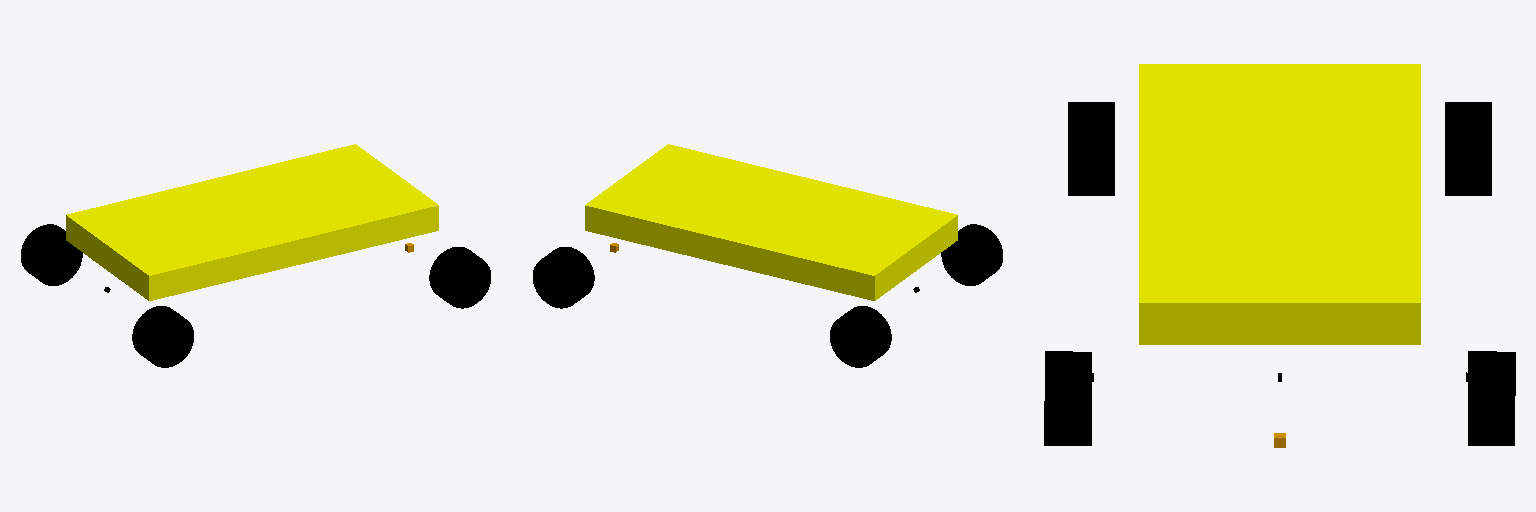
URDF robot description (car_model):
<?xml version="1.0"?>
<robot name="car_model">

  <gazebo>
    <static>False</static>
  </gazebo>

  <material name="grey">
    <color rgba="0.2 0.2 0.2 0.7"/>
  </material>

  <material name="black">
    <color rgba="0 0 0 0.7"/>
  </material>

  <material name="yellow">
    <color rgba="1 1 0 0.7"/>
  </material>



  <link name="base_footprint">

    <inertial>
      <origin xyz="0 0 0"/>
      <mass value="1.0"/>
      <inertia ixx="1" ixy="0.0" ixz="0.0" iyy="1" iyz="0.0" izz="1"/>
    </inertial>

    <visual>
      <geometry>
        <box size="0.001 0.001 0.001"/>
      </geometry>
      <origin xyz="0 0 0" rpy="0 0 0"/>
    </visual>


  </link>

  <joint name="joint1" type="fixed">
    <parent link="base_footprint"/>
    <child link="base_link"/>
    <origin xyz="0 0 0.5" rpy="0 0 0"/>
  </joint>

  <link name="base_link">

    <inertial>
      <origin xyz="1.2 0 0"/>
      <mass value="212"/>
      <inertia ixx="1.4133" ixy="0.0" ixz="0.0" iyy="159.7" iyz="0.0" izz="159.7"/>
    </inertial>

    <visual>
      <geometry>
        <box size="2.4 1.2 0.2"/>
      </geometry>
      <origin rpy="0 0 0" xyz="1.2 0 0"/>
      <material name="yellow"/>
    </visual>

    <collision>
      <geometry>
        <box size="2.4 1.2 0.2"/>
      </geometry>
      <origin rpy="0 0 0" xyz="0 0 0"/>
    </collision>

  </link>

  <gazebo reference="base_link">
    <material>Gazebo/Yellow</material>
  </gazebo>

  <joint name="right_rear_wheel_joint" type="continuous">
    <parent link="base_link"/>
    <child link="right_rear_wheel"/>
    <origin xyz="0 0.8 -0.3" rpy="0 0 0"/>
    <axis xyz="0 1 0"/>
  </joint>


  <link name="right_rear_wheel">

    <inertial>
      <origin xyz="0 0 0"/>
      <mass value="3.0"/>
      <inertia ixx="0.0525" ixy="0.0" ixz="0.0" iyy="0.0525" iyz="0.0" izz="0.06"/>
    </inertial>

    <visual>
      <geometry>
        <cylinder radius="0.2" length="0.2"/>
      </geometry>
      <origin xyz="0 0 0" rpy="1.57 0 0"/>
      <material name="black"/>
    </visual>

    <collision>
      <geometry>
        <cylinder radius="0.2" length="0.2"/>
      </geometry>
      <origin xyz="0 0 0" rpy="1.57 0 0"/>
    </collision>
  </link>


  <joint name="left_rear_wheel_joint" type="continuous">
    <parent link="base_link"/>
    <child link="left_rear_wheel"/>
    <origin xyz="0 -0.8 -0.3" rpy="0 0 0"/>
    <axis xyz="0 1 0"/>
  </joint>


  <link name="left_rear_wheel">

    <inertial>
      <origin xyz="0 0 0"/>
      <mass value="3.0"/>
      <inertia ixx="0.0525" ixy="0.0" ixz="0.0" iyy="0.0525" iyz="0.0" izz="0.06"/>
    </inertial>

    <visual>
      <geometry>
        <cylinder radius="0.2" length="0.2"/>
      </geometry>
      <origin xyz="0 0 0" rpy="1.57 0 0"/>
      <material name="black"/>
    </visual>

    <collision>
      <geometry>
        <cylinder radius="0.2" length="0.2"/>
      </geometry>
      <origin xyz="0 0 0" rpy="1.57 0 0"/>
    </collision>
  </link>




  <transmission name="right_rear_wheel_trans">
    <type>transmission_interface/SimpleTransmission</type>
    <joint name="right_rear_wheel_joint">
      <hardwareInterface>hardware_interface/VelocityJointInterface</hardwareInterface>

    </joint>
    <actuator name="rear_wheel_motor">
      <mechanicalReduction>50</mechanicalReduction>
      <hardwareInterface>hardware_interface/VelocityJointInterface</hardwareInterface>
      <mechanicalReduction>1</mechanicalReduction>
    </actuator>
  </transmission>

  <transmission name="left_rear_wheel_trans">
    <type>transmission_interface/SimpleTransmission</type>
    <joint name="left_rear_wheel_joint">
      <hardwareInterface>hardware_interface/VelocityJointInterface</hardwareInterface>

    </joint>
    <actuator name="rear_wheel_motor">
      <mechanicalReduction>50</mechanicalReduction>
      <hardwareInterface>hardware_interface/VelocityJointInterface</hardwareInterface>
      <mechanicalReduction>1</mechanicalReduction>
    </actuator>
  </transmission>

  <gazebo reference="rear_wheel">
    <mu1 value="0.2"/>
    <mu2 value="0.2"/>
    <kp  value="10000000.0" />
    <kd  value="1.0" />
    <fdir1 value="1 0 0"/>
    <material>Gazebo/Black</material>
  </gazebo>


  <joint name="right_steer_joint" type="revolute">
    <parent link="base_link"/>
    <child link="right_steer"/>
    <origin xyz="2.4 0.8 -0.25" rpy="0 0 0"/>
    <limit effort="10" velocity="3" upper="0.69" lower="-0.5"/>
    <axis xyz="0 0 1"/>
  </joint>

<link name="right_steer">

    <inertial>
      <origin xyz="0 0 0"/>
      <mass value="1.0"/>
      <inertia ixx="0.0525" ixy="0.0" ixz="0.0" iyy="0.0525" iyz="0.0" izz="0.06"/>
    </inertial>

    <visual>
      <geometry>
        <cylinder radius="0.02" length="0.02"/>
      </geometry>
      <origin xyz="0 0 0" rpy="1.57 0 0"/>
      <material name="black"/>
    </visual>

    <collision>
      <geometry>
        <cylinder radius="0.02" length="0.02"/>
      </geometry>
      <origin xyz="0 0 0" rpy="1.57 0 0"/>
    </collision>
  </link>

  <link name="right_front_wheel">

    <inertial>
      <origin xyz="0 0 0"/>
      <mass value="3.0"/>
      <inertia ixx="0.0525" ixy="0.0" ixz="0.0" iyy="0.0525" iyz="0.0" izz="0.06"/>
    </inertial>

    <visual>
      <geometry>
        <cylinder radius="0.2" length="0.2"/>
      </geometry>
      <origin xyz="0 0 0" rpy="1.57 0 0"/>
      <material name="black"/>
    </visual>

    <collision>
      <geometry>
        <cylinder radius="0.2" length="0.2"/>
      </geometry>
      <origin xyz="0 0 0" rpy="1.57 0 0"/>
    </collision>
  </link>

  <joint name="right_front_wheel_joint" type="continuous">
    <parent link="right_steer"/>
    <child link="right_front_wheel"/>
    <origin xyz="0 0.1 -0.1" rpy="0 0 0"/>
    <limit effort="10" velocity="3"/>
    <axis xyz="0 1 0"/>
  </joint>

<joint name="left_steer_joint" type="revolute">
    <parent link="base_link"/>
    <child link="left_steer"/>
    <origin xyz="2.4 -0.8 -0.25" rpy="0 0 0"/>
    <limit effort="10" velocity="3" upper="0.5" lower="-0.69"/>
    <axis xyz="0 0 1"/>
  </joint>

<link name="left_steer">

    <inertial>
      <origin xyz="0 0 0"/>
      <mass value="1.0"/>
      <inertia ixx="0.0525" ixy="0.0" ixz="0.0" iyy="0.0525" iyz="0.0" izz="0.06"/>
    </inertial>

    <visual>
      <geometry>
        <cylinder radius="0.02" length="0.02"/>
      </geometry>
      <origin xyz="0 0 0" rpy="1.57 0 0"/>
      <material name="black"/>
    </visual>

    <collision>
      <geometry>
        <cylinder radius="0.02" length="0.02"/>
      </geometry>
      <origin xyz="0 0 0" rpy="1.57 0 0"/>
    </collision>
  </link>

  <link name="left_front_wheel">

    <inertial>
      <origin xyz="0 0 0"/>
      <mass value="3.0"/>
      <inertia ixx="0.0525" ixy="0.0" ixz="0.0" iyy="0.0525" iyz="0.0" izz="0.06"/>
    </inertial>

    <visual>
      <geometry>
        <cylinder radius="0.2" length="0.2"/>
      </geometry>
      <origin xyz="0 0 0" rpy="1.57 0 0"/>
      <material name="black"/>
    </visual>

    <collision>
      <geometry>
        <cylinder radius="0.2" length="0.2"/>
      </geometry>
      <origin xyz="0 0 0" rpy="1.57 0 0"/>
    </collision>
  </link>

  <joint name="left_front_wheel_joint" type="continuous">
    <parent link="left_steer"/>
    <child link="left_front_wheel"/>
    <origin xyz="0 -0.1 -0.1" rpy="0 0 0"/>
    <limit effort="10" velocity="3"/>
    <axis xyz="0 1 0"/>
  </joint>
   <transmission name="right_front_wheel_trans">
    <type>transmission_interface/SimpleTransmission</type>
    <joint name="right_steer_joint">
      <hardwareInterface>hardware_interface/PositionJointInterface</hardwareInterface>
    </joint>
    <actuator name="front_wheel_motor">
      <mechanicalReduction>50</mechanicalReduction>
      <hardwareInterface>hardware_interface/PositionJointInterface</hardwareInterface>
      <mechanicalReduction>1</mechanicalReduction>
    </actuator>
  </transmission> 

   <transmission name="left_front_wheel_trans">
    <type>transmission_interface/SimpleTransmission</type>
    <joint name="left_steer_joint">
      <hardwareInterface>hardware_interface/PositionJointInterface</hardwareInterface>
    </joint>
    <actuator name="front_wheel_motor">
      <mechanicalReduction>50</mechanicalReduction>
      <hardwareInterface>hardware_interface/PositionJointInterface</hardwareInterface>
      <mechanicalReduction>1</mechanicalReduction>
    </actuator>
  </transmission> 

  <gazebo reference="front_wheel">
    <mu1 value="0.2"/>
    <mu2 value="0.2"/>
    <kp  value="10000000.0" />
    <kd  value="1.0" />
    <fdir1 value="1 0 0"/>
    <material>Gazebo/Black</material>
  </gazebo>

  <gazebo>
    <plugin name="gazebo_ros_control" filename="libgazebo_ros_control.so">
      <robotNamespace>/car_model</robotNamespace>
      <robotSimType>gazebo_ros_control/DefaultRobotHWSim</robotSimType>
    </plugin>
  </gazebo>

<link name="hokuyo_link">

    <inertial>
      <mass value="2" />
      <inertia ixx="1.0" ixy="0.0" ixz="0.0" iyy="1.0" iyz="0.0" izz="1.0" />
    </inertial>

    <visual>
      <origin rpy="0 0 0" xyz="0 0 0"/>
      <geometry>
        <box size="0.05 0.05 0.05"/>
      </geometry>
      <material name="Blue"/>
    </visual>
  </link>
  <joint name="hokuyo_joint" type="fixed">
    <origin rpy="0 0 0" xyz="2.5 0 -0.5"/>
    <parent link="base_link"/>
    <child link="hokuyo_link"/>
  </joint>
  <gazebo reference="hokuyo_link">
    <material>Gazebo/Blue</material>
    <turnGravityOff>false</turnGravityOff>
    <sensor name="head_hokuyo_sensor" type="ray">
      <pose>0.025 0 0 0 0 0</pose>
      <visualize>true</visualize>
      <update_rate>40</update_rate>
      <ray>
        <scan>
          <horizontal>
            <samples>400</samples>
            <resolution>1</resolution>
            <min_angle>-1.570796</min_angle>
            <max_angle>1.570796</max_angle>
          </horizontal>
        </scan>
        <range>
          <min>0.10</min>
          <max>5.0</max>
          <resolution>0.001</resolution>
        </range>
      </ray>
      <plugin filename="libgazebo_ros_laser.so" name="gazebo_ros_head_hokuyo_controller">
        <topicName>/scan</topicName>
        <frameName>hokuyo_link</frameName>
      </plugin>
    </sensor>
  </gazebo>


 <joint name="steer_joint" type="revolute">
    <parent link="base_link"/>
    <child link="steer_link"/>
    <origin xyz="2.4 0 -0.25" rpy="0 0 0"/>
    <limit effort="10" velocity="3" upper="1" lower="-1"/>
    <axis xyz="0 0 1"/>
  </joint>

 <link name="steer_link">

    <inertial>
      <origin xyz="0 0 0"/>
      <mass value="1.0"/>
      <inertia ixx="0.0525" ixy="0.0" ixz="0.0" iyy="0.0525" iyz="0.0" izz="0.06"/>
    </inertial>

    <visual>
      <geometry>
        <cylinder radius="0.02" length="0.02"/>
      </geometry>
      <origin xyz="0 0 0" rpy="1.57 0 0"/>
      <material name="black"/>
    </visual>

    <collision>
      <geometry>
        <cylinder radius="0.02" length="0.02"/>
      </geometry>
      <origin xyz="0 0 0" rpy="1.57 0 0"/>
    </collision>
  </link>

<joint name="rear_wheel_joint" type="continuous">
    <parent link="base_link"/>
    <child link="rear_wheel"/>
    <origin xyz="0 0 -0.25" rpy="0 0 0"/>
    <limit effort="10" velocity="3" upper="1" lower="-1"/>
    <axis xyz="0 1 0"/>
  </joint>

<transmission name="steer_transmission">
    <type>transmission_interface/SimpleTransmission</type>
    <joint name="steer_joint">
      <hardwareInterface>hardware_interface/PositionJointInterface</hardwareInterface>
    </joint>
    <actuator name="front_steer_motor">
      <mechanicalReduction>50</mechanicalReduction>
      <hardwareInterface>hardware_interface/PositionJointInterface</hardwareInterface>
      <mechanicalReduction>1</mechanicalReduction>
    </actuator>
  </transmission>

 <link name="rear_wheel">

    <inertial>
      <origin xyz="0 0 0"/>
      <mass value="1.0"/>
      <inertia ixx="0.0525" ixy="0.0" ixz="0.0" iyy="0.0525" iyz="0.0" izz="0.06"/>
    </inertial>

    <visual>
      <geometry>
        <cylinder radius="0.02" length="0.02"/>
      </geometry>
      <origin xyz="0 0 0" rpy="1.57 0 0"/>
      <material name="black"/>
    </visual>

    <collision>
      <geometry>
        <cylinder radius="0.02" length="0.02"/>
      </geometry>
      <origin xyz="0 0 0" rpy="1.57 0 0"/>
    </collision>
  </link>

  <transmission name="left_front_wheel_trans">
    <type>transmission_interface/SimpleTransmission</type>
    <joint name="rear_wheel_joint">
      <hardwareInterface>hardware_interface/VelocityJointInterface</hardwareInterface>
    </joint>
    <actuator name="real_wheel_motor">
      <mechanicalReduction>50</mechanicalReduction>
      <hardwareInterface>hardware_interface/VelocityJointInterface</hardwareInterface>
      <mechanicalReduction>1</mechanicalReduction>
    </actuator>
  </transmission>
  <!--link name="laser">
	<visual>
      	  <geometry>
        <box size="0.15 0.15 0.15"/>
      </geometry>
      <origin xyz="0 0 0" rpy="1.57 0 0"/>
      <material name="black"/>
      </visual>
        <sensor type="gpu_ray" name="head_hokuyo_sensor">
          <pose>1 0 0.025 0 0 0</pose>
          <visualize>true</visualize>
          <update_rate>40</update_rate>
          <ray>
            <scan>
              <horizontal>
                <samples>400</samples>
                <resolution>1</resolution>
                <min_angle>-1.570796</min_angle>
                <max_angle>1.570796</max_angle>
              </horizontal>
            </scan>
            <range>
              <min>0.1</min>
              <max>6</max>
              <resolution>0.01</resolution>
            </range>
          </ray>
          <plugin name="gazebo_ros_head_hokuyo_controller" filename="libgazebo_ros_laser.so">
            <topicName>/scan</topicName>
           </plugin>
        </sensor>
      </link>

	<joint name="laser_joint" type="fixed">
	    <parent link="base_link"/>
	    <child link="laser"/>
	    <origin xyz="1.2 0 0.25" rpy="0 0 0"/>
	  </joint-->
  <!--gazebo>
    <plugin name="ackermann_steering_controller" filename="libackermann_steering_controller.so">
      <rosDebugLevel>Debug</rosDebugLevel>
      <publishWheelTF>false</publishWheelTF>
      <publishTf>1</publishTf>
      <publishWheelJointState>false</publishWheelJointState>
      <alwaysOn>true</alwaysOn>
      <updateRate>100.0</updateRate>
      <fronSteer>front_steer_joint</frontSteer>
      <rearWheel>rear_wheel_joint</rearWheel>
      <broadcastTF>1</broadcastTF>
      <base_linkmandTopic>cmd_vel</base_linkmandTopic>
      <odometryFrame>odom</odometryFrame>
      <odometryTopic>odom</odometryTopic>
      <robotBaseFrame>base_link</robotBaseFrame>


    </plugin>
  </gazebo-->




</robot>

--- Facts derived from the render (not from the file) ---
Views: 3 orthographic renders of the robot side by side, from view 1: azimuth 30°, elevation 25°; view 2: azimuth 150°, elevation 25°; view 3: azimuth 270°, elevation 25°.
Model car_model with 11 links and 10 joints (3 revolute, 5 continuous, 2 fixed), rooted at base_footprint, posed all joints at 0.
Visible links, largest first — view 1: base_link, left_rear_wheel, left_front_wheel, right_rear_wheel; view 2: base_link, right_rear_wheel, right_front_wheel, left_rear_wheel; view 3: base_link, right_front_wheel, left_front_wheel, right_rear_wheel, left_rear_wheel.
Boxes of the visible links, bbox=[...] form: base_link: bbox=[66, 144, 438, 300]; left_rear_wheel: bbox=[132, 306, 193, 367]; left_front_wheel: bbox=[429, 247, 490, 308]; right_rear_wheel: bbox=[21, 224, 82, 285]; base_link: bbox=[585, 144, 957, 300]; right_rear_wheel: bbox=[830, 306, 891, 367]; right_front_wheel: bbox=[533, 247, 594, 308]; left_rear_wheel: bbox=[941, 224, 1002, 285]; base_link: bbox=[1139, 64, 1420, 344]; right_front_wheel: bbox=[1468, 351, 1515, 445]; left_front_wheel: bbox=[1044, 351, 1091, 445]; right_rear_wheel: bbox=[1445, 102, 1491, 195]; left_rear_wheel: bbox=[1068, 102, 1114, 195].
Bounding box of the posed robot: 2.8 × 2 × 0.6501 m (x, y, z).
Geometry: primitives only (box / cylinder / sphere), no mesh files.
